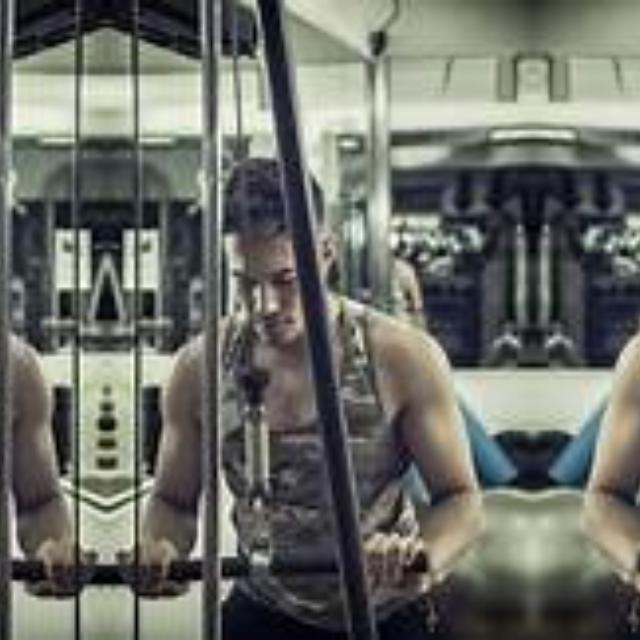person: (156, 154, 499, 622), (566, 154, 640, 621), (0, 154, 55, 621)
